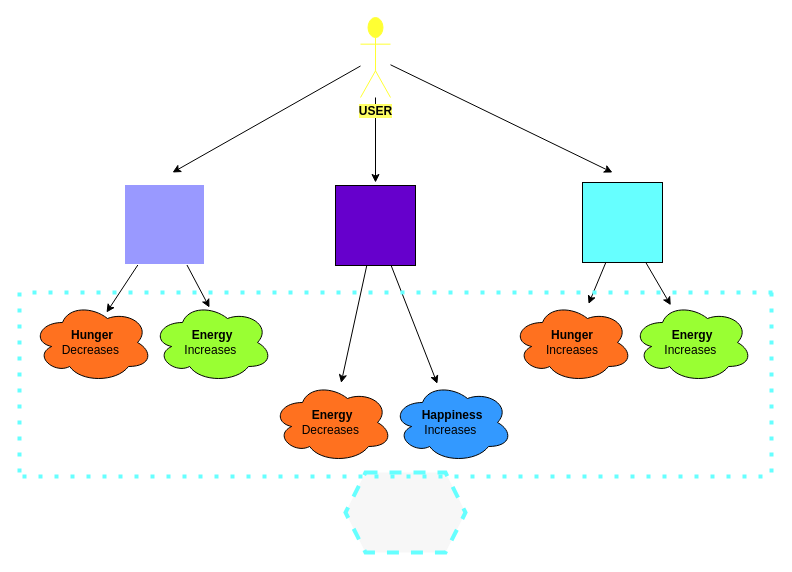
The diagram is 792 pixels wide and 572 high, and some of its shapes have lost their labels. Here are the shapes that lost their labels. From the top down, the centre of each, then its label:
(164,224): Clicks Feed
(375,225): Clicks Play
(622,222): Clicks Rest
(405,512): PET
